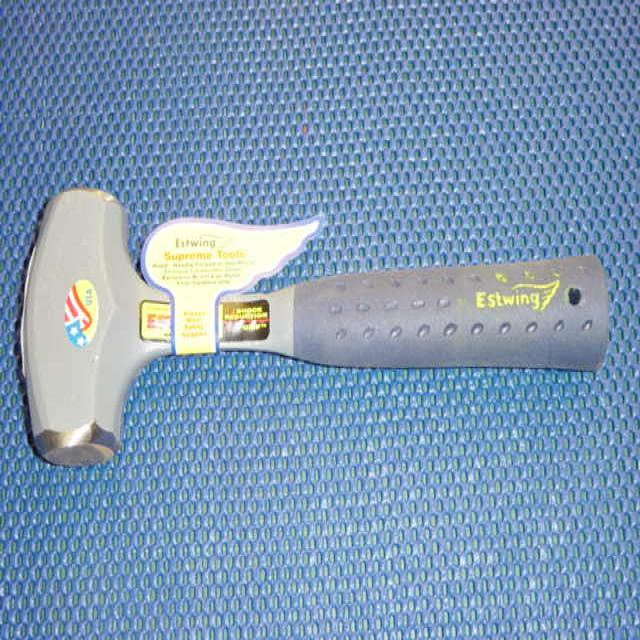Hammer: (14, 166, 617, 492)
